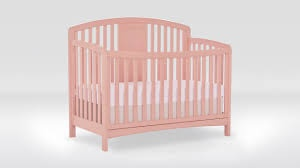crib: (69, 18, 230, 150)
